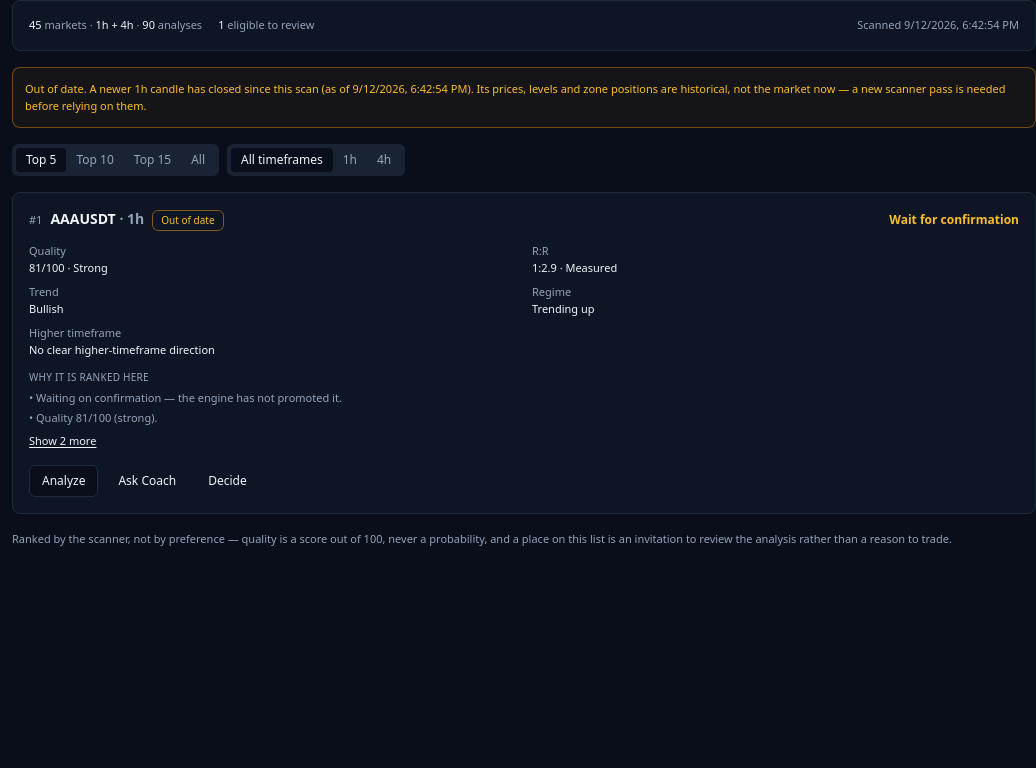
filtering › says so plainly when a filter matches nothing
Click the button "4h" at [384, 160], box [367,148,401,172]
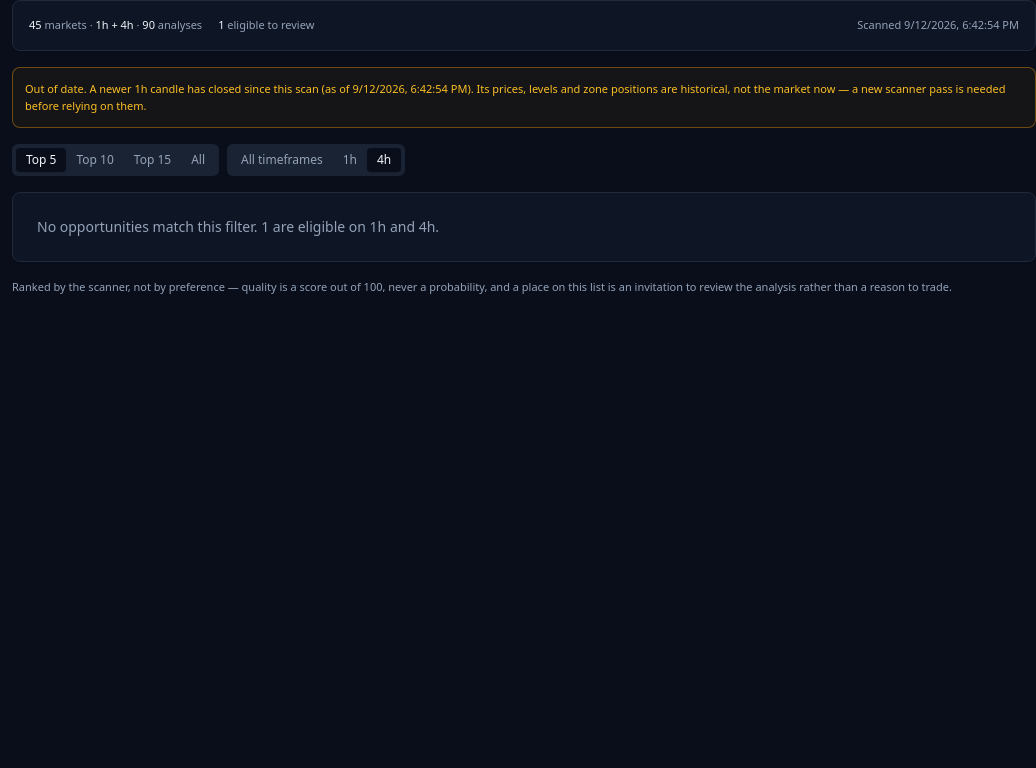
Result: the text "No opportunities match this filter" is shown at [37,217,261,236]
